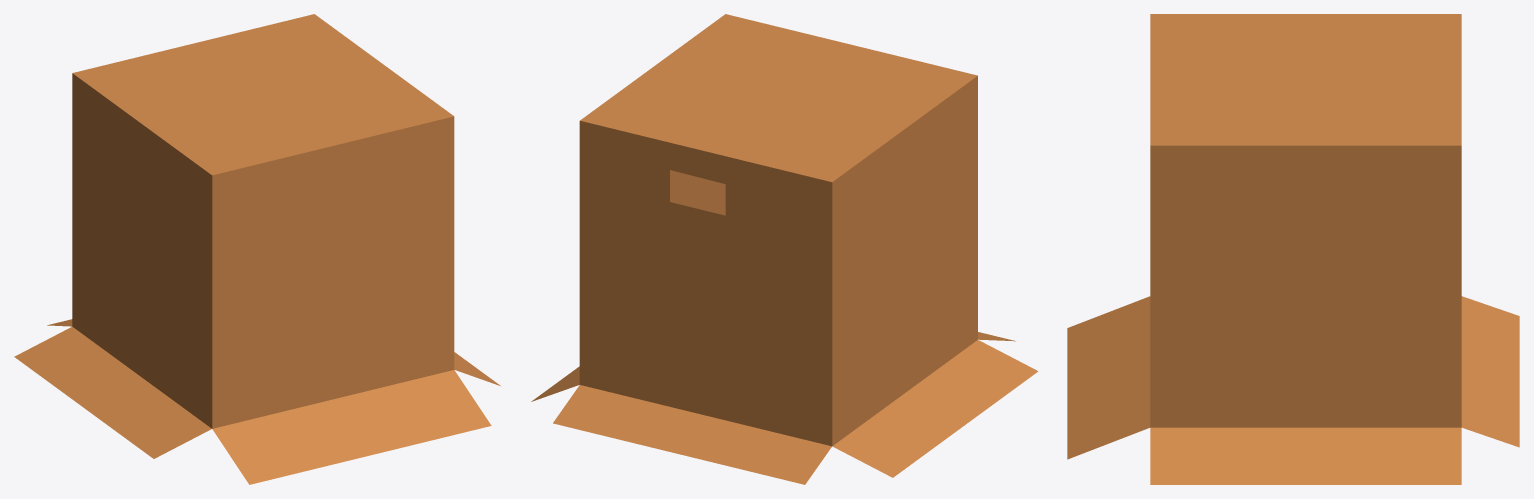
File: CardboardBox.gltf
3 views of the same model, side by side, from view 1: azimuth 30°, elevation 25°; view 2: azimuth 150°, elevation 25°; view 3: azimuth 270°, elevation 25° (orthographic). The views are drawn at different scales.
Parts seen in each view (by area): view 1: Cube; view 2: Cube; view 3: Cube.
Boxes of the visible parts, bbox=[...] form: Cube: bbox=[14, 14, 500, 484]; Cube: bbox=[531, 14, 1038, 484]; Cube: bbox=[1067, 14, 1519, 484].
Size of the model in its own units: 0.8341 by 0.6465 by 0.8435.
1 material, 1 textured.
